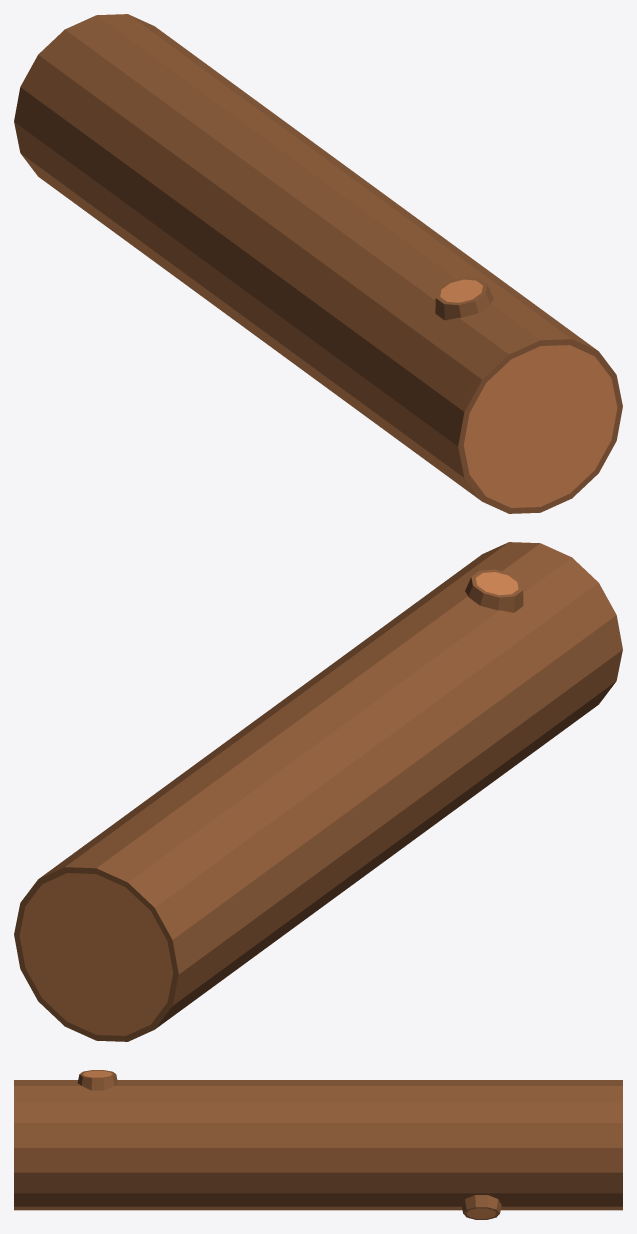
Rendered from tree_trunks_01.fbx.
The picture shows the model from 3 angles, top to bottom: view 1: azimuth 30°, elevation 25°; view 2: azimuth 150°, elevation 25°; view 3: azimuth 270°, elevation 25°; orthographic projection. The views are drawn at different scales.
Visible parts, largest first — view 1: Cylinder004; view 2: Cylinder004; view 3: Cylinder004.
Part boxes in pixels (x1,y1,x2,y2): Cylinder004: (14, 14, 622, 513); Cylinder004: (14, 542, 622, 1041); Cylinder004: (14, 1070, 622, 1219).
Bounding box in the file's own units: 90.38 × 96.89 × 420.
1 material, 1 textured.
